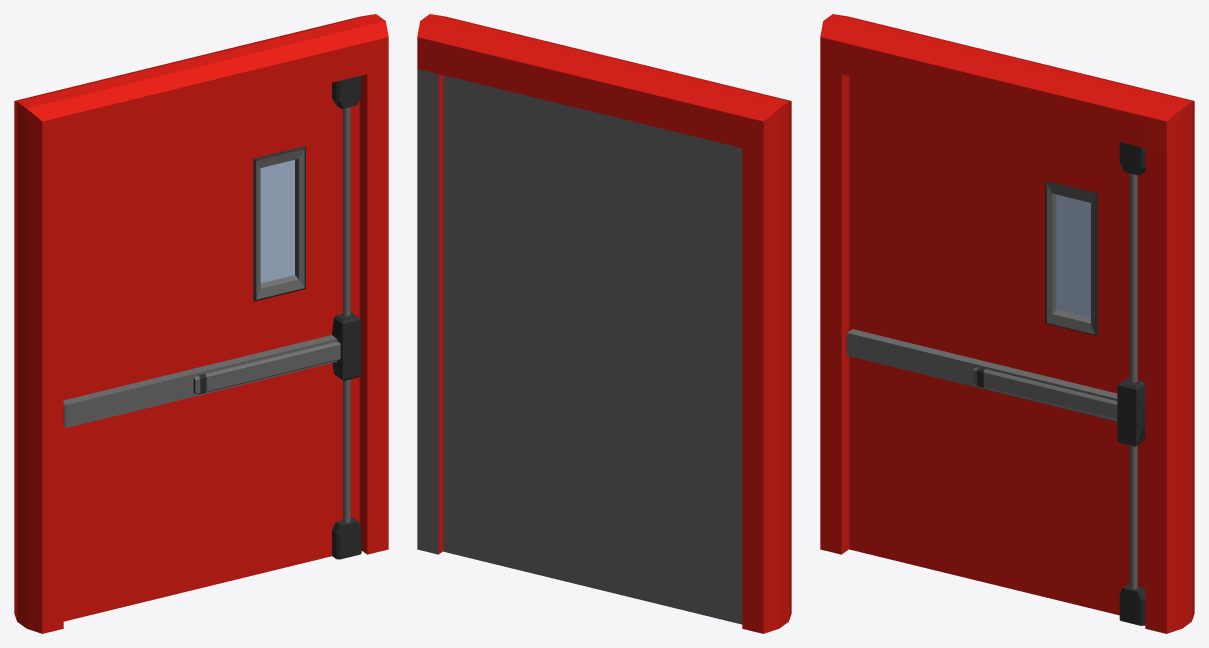
File: emergencyDoor.fbx
The picture shows the model from 3 angles, left to right: view 1: azimuth 30°, elevation 25°; view 2: azimuth 150°, elevation 25°; view 3: azimuth 330°, elevation 25°; orthographic projection.
Parts seen in each view (by area): view 1: EmergencyDoor; view 2: EmergencyDoor; view 3: EmergencyDoor.
Boxes of the visible parts, <box> form: EmergencyDoor: <box>14,14,388,633</box>; EmergencyDoor: <box>417,14,791,633</box>; EmergencyDoor: <box>820,14,1194,633</box>.
Bounding box in the file's own units: 171 × 237 × 24.41.
